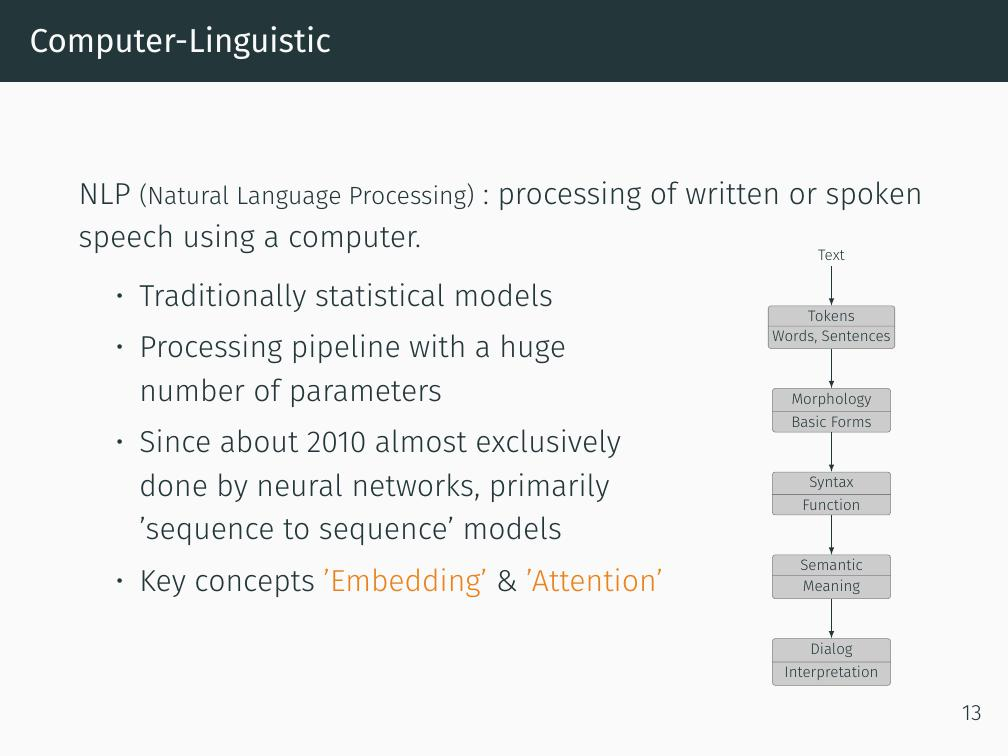Title: (20, 19, 338, 60)
